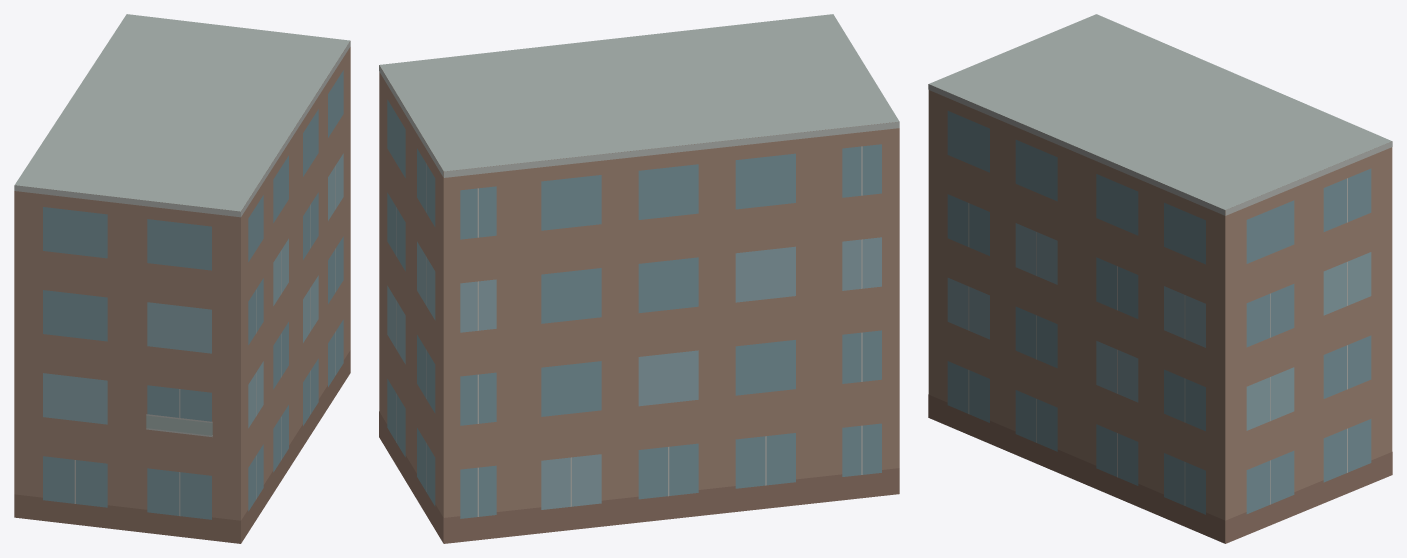
Rendered from survey-upis-32836612.glb.
The picture shows the model from 3 angles, left to right: view 1: azimuth 30°, elevation 25°; view 2: azimuth 150°, elevation 25°; view 3: azimuth 270°, elevation 25°; orthographic projection. The views are drawn at different scales.
Parts seen in each view (by area): view 1: survey-upis-32836612.tmp; view 2: survey-upis-32836612.tmp; view 3: survey-upis-32836612.tmp.
Part boxes in pixels (x1,y1,x2,y2): survey-upis-32836612.tmp: [14, 14, 350, 543]; survey-upis-32836612.tmp: [379, 14, 899, 543]; survey-upis-32836612.tmp: [928, 14, 1392, 543].
Bounding box in the file's own units: 17.65 × 14 × 17.64.
